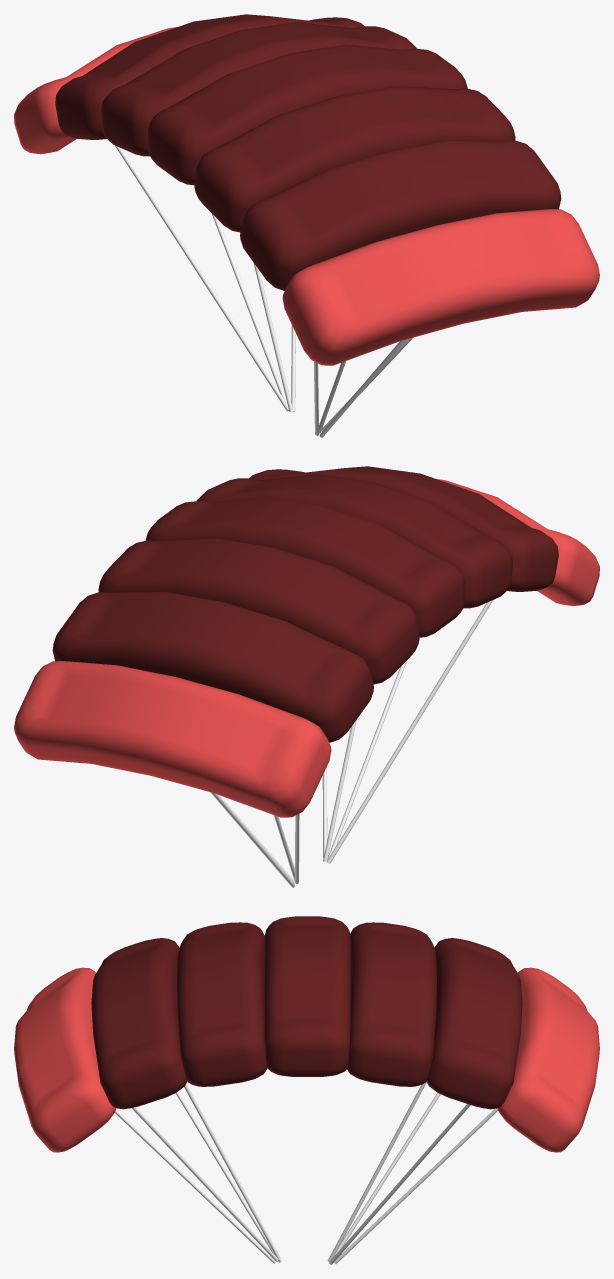
File: 3D_Model_Parachute_V3.fbx
3 views of the same model, one above another, from view 1: azimuth 30°, elevation 25°; view 2: azimuth 150°, elevation 25°; view 3: azimuth 270°, elevation 25° (orthographic). The views are drawn at different scales.
Parts seen in each view (by area): view 1: polySurface26; view 2: polySurface26; view 3: polySurface26.
Boxes of the visible parts, x1,y1,x2,y2 form: polySurface26: (14,14,599,437); polySurface26: (14,466,599,887); polySurface26: (14,916,599,1264).
Bounding box in the file's own units: 8.58 × 10.18 × 17.15.
